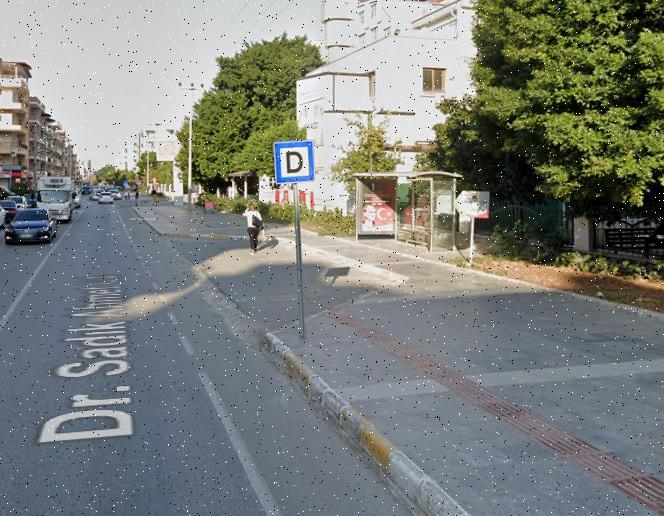station: (274, 142, 311, 180)
